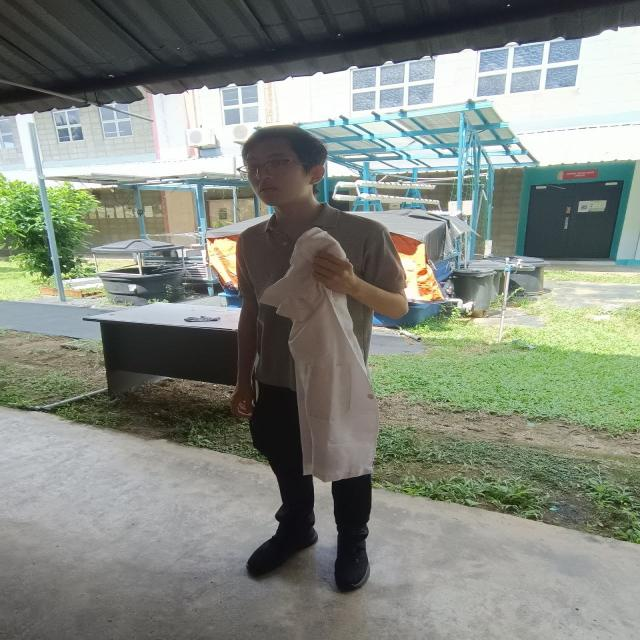person_without_labcoat: (231, 125, 407, 590)
